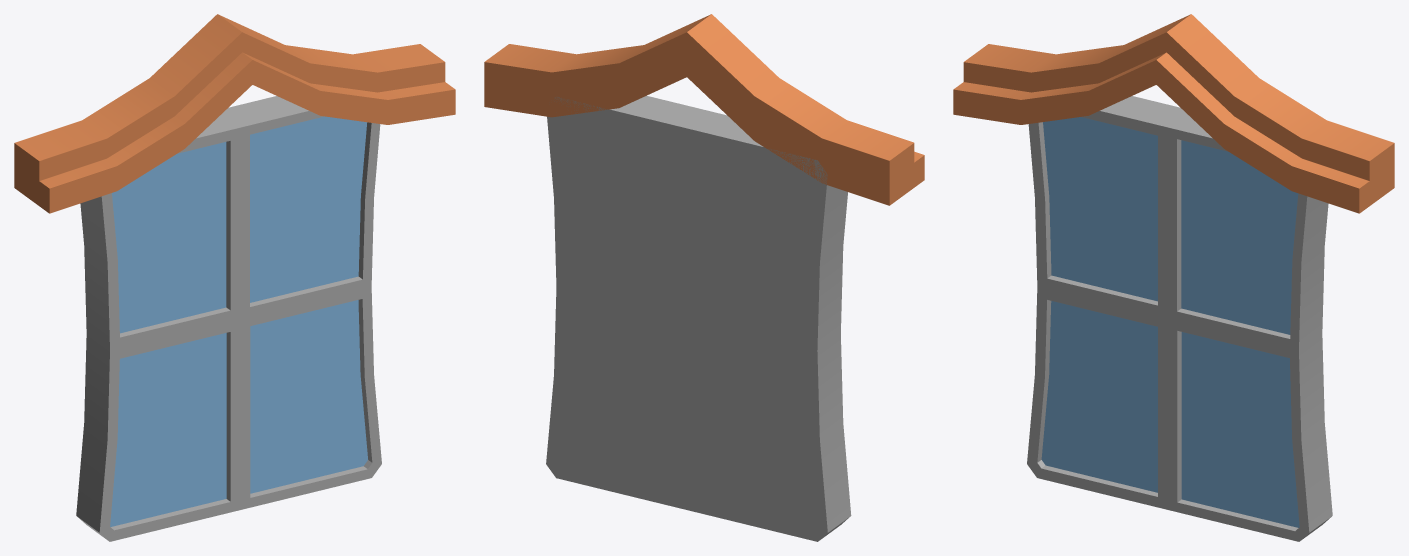
The picture shows the model from 3 angles, left to right: view 1: azimuth 30°, elevation 25°; view 2: azimuth 150°, elevation 25°; view 3: azimuth 330°, elevation 25°; orthographic projection.
Visible parts, largest first — view 1: Window; view 2: Window; view 3: Window.
Part boxes in pixels (x1=…): Window: x1=14, y1=14, x2=455, y2=541; Window: x1=484, y1=14, x2=924, y2=541; Window: x1=953, y1=14, x2=1394, y2=541.
Bounding box in the file's own units: 2 × 2.25 × 0.3.
